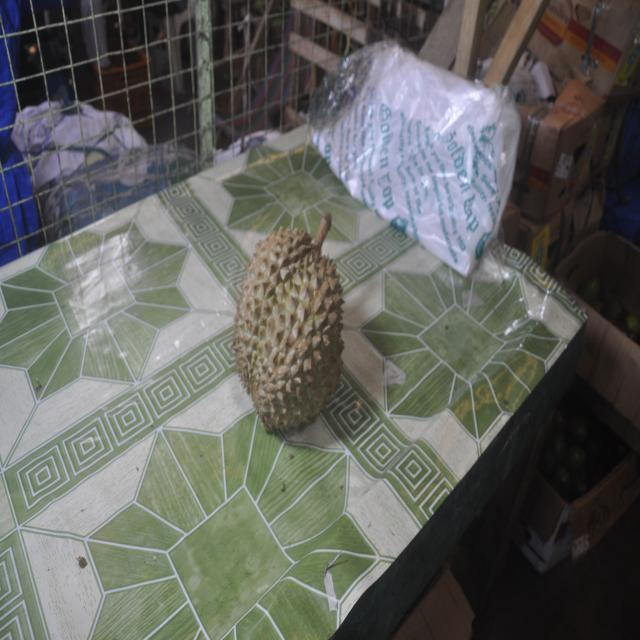mature: (233, 212, 343, 432)
